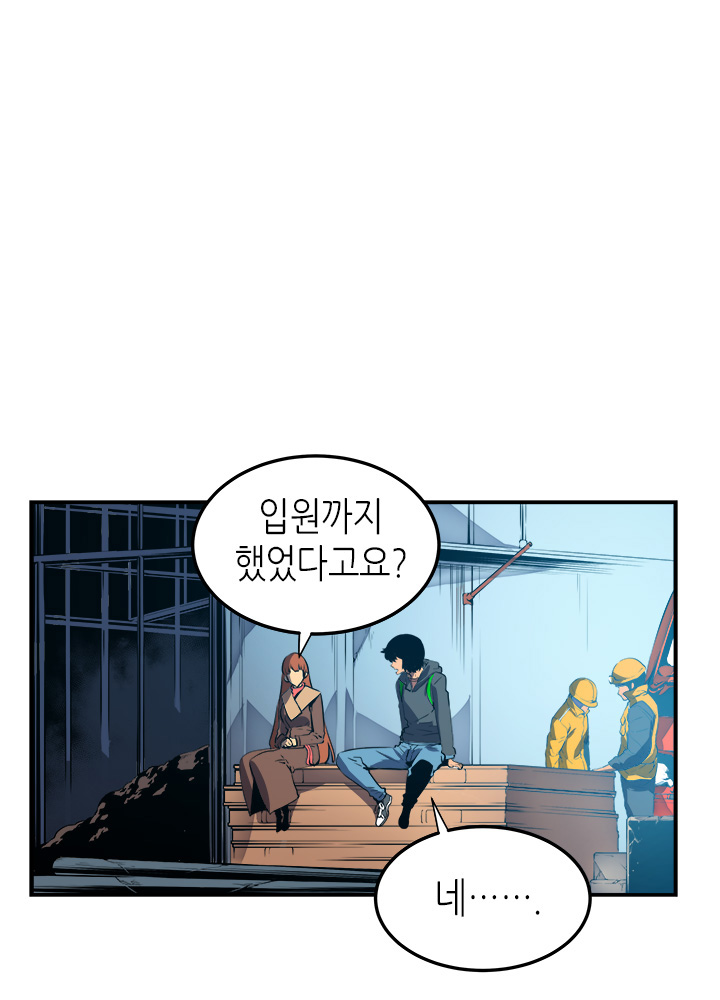dialog box: (161, 419, 466, 675), (342, 778, 620, 990)
text: (218, 472, 423, 601), (408, 849, 566, 938)
